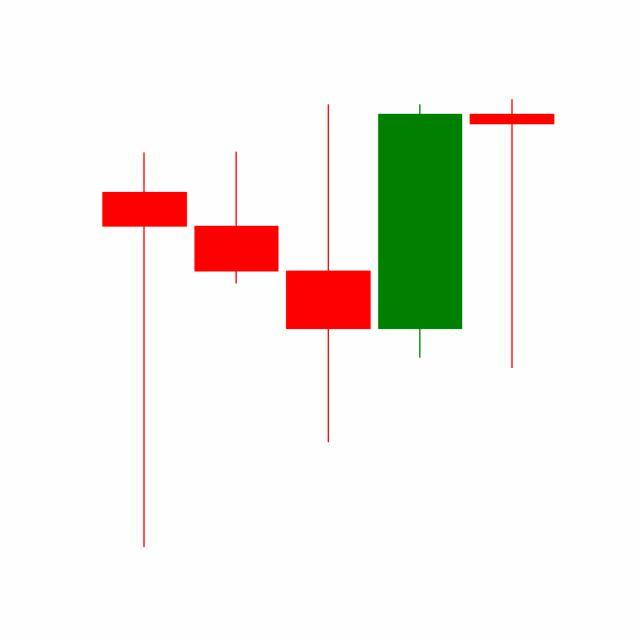Marubozu: (374, 102, 468, 362)
